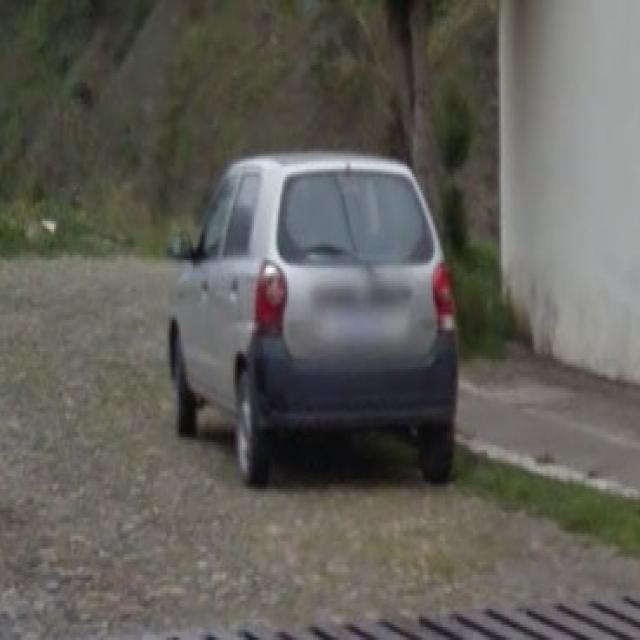cars: (168, 161, 465, 493)
